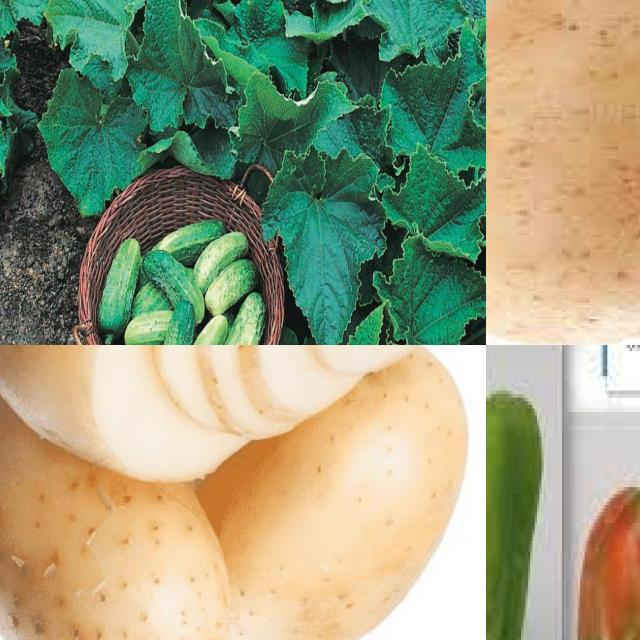bell_pepper: (572, 419, 640, 640)
cucumber: (97, 236, 143, 343), (191, 224, 253, 294), (219, 290, 267, 346), (144, 300, 198, 346), (172, 313, 225, 346)
potato: (200, 352, 467, 640), (1, 346, 487, 483), (1, 354, 231, 640), (487, 1, 640, 346)
